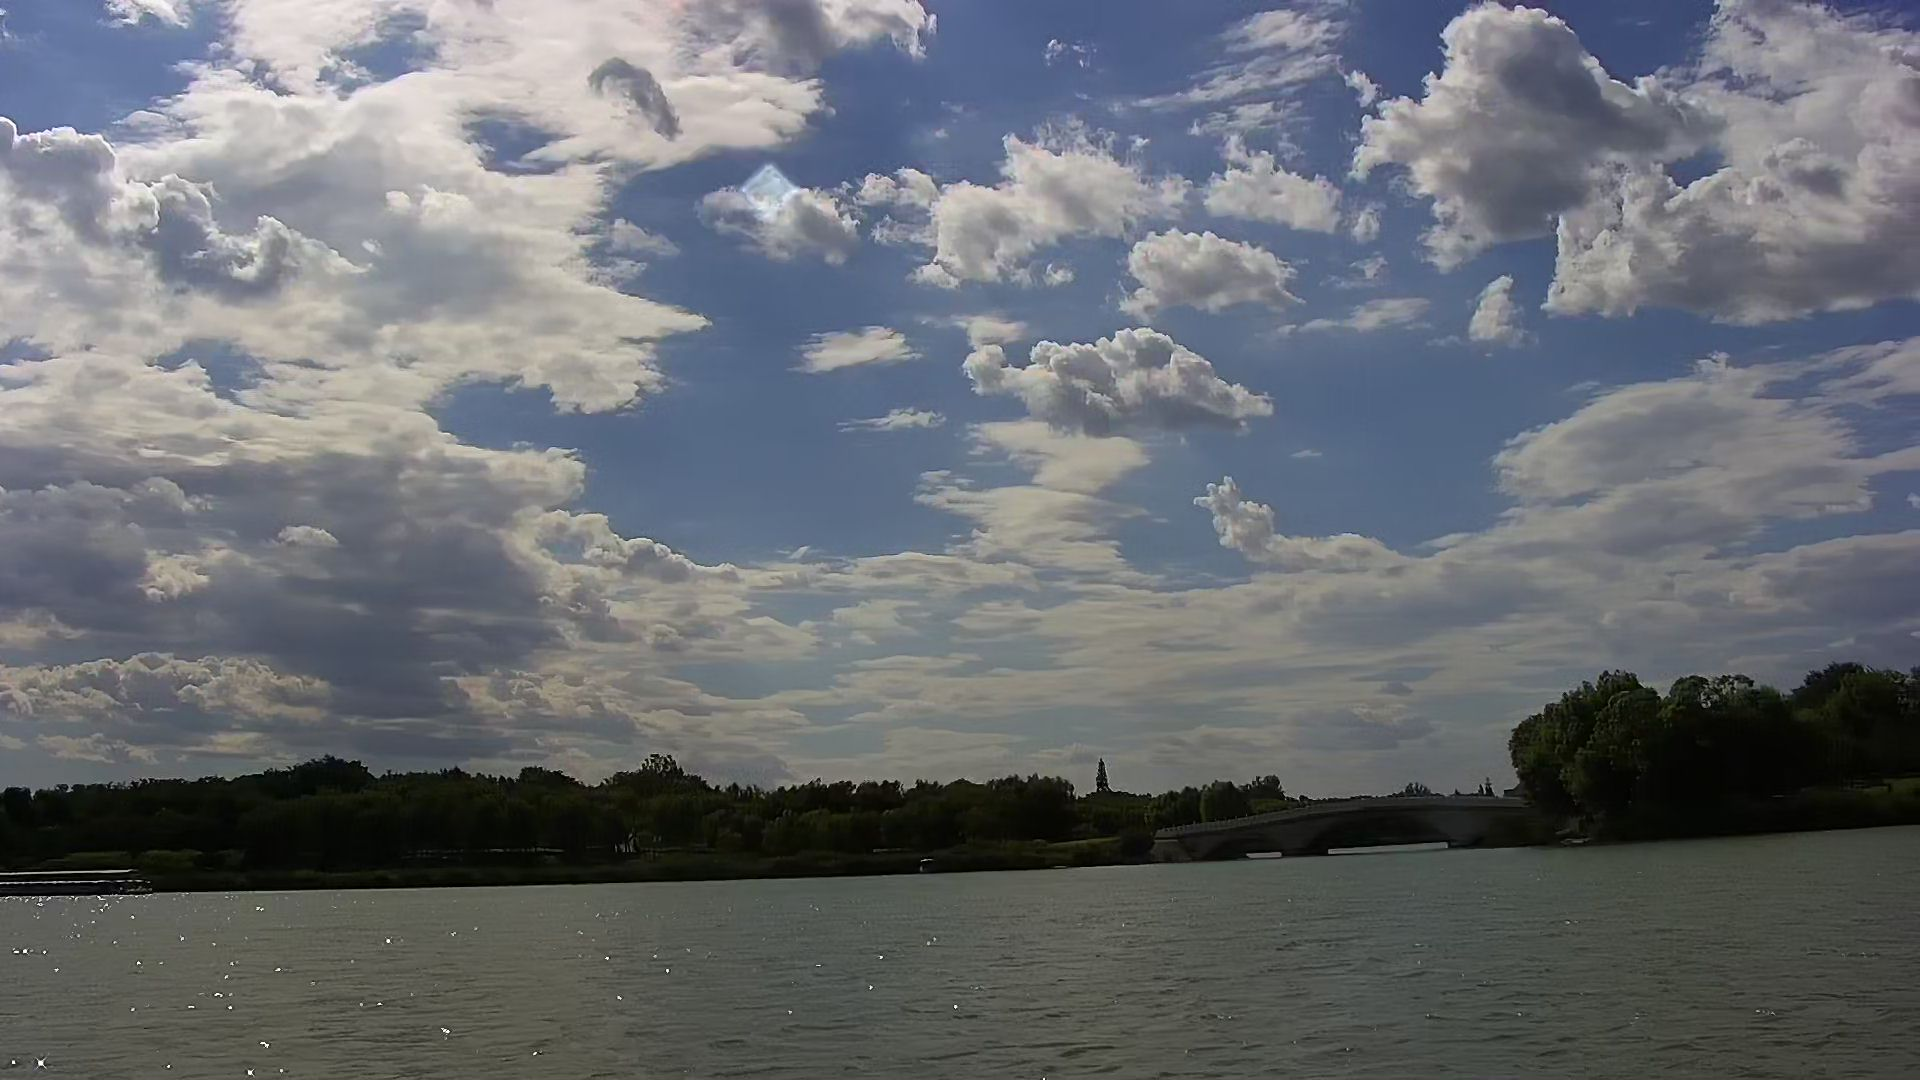bridge: (1178, 795, 1536, 858)
harbor: (3, 864, 150, 901)
